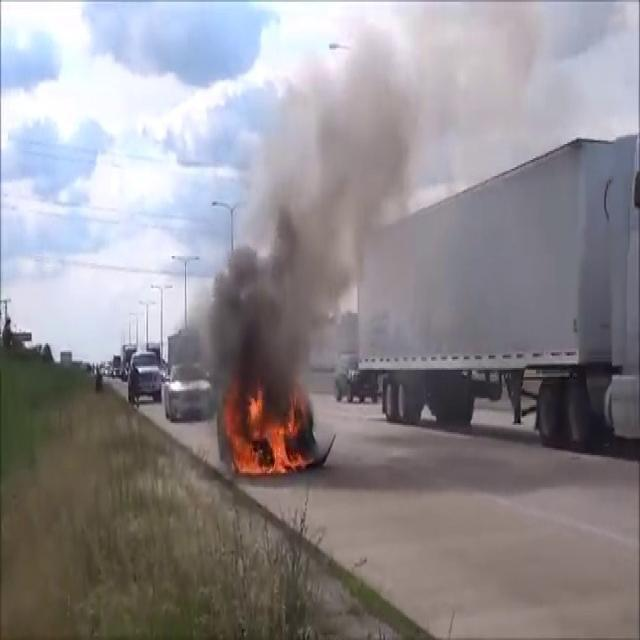Fire: (224, 386, 312, 478)
Smoke: (202, 5, 443, 395)
